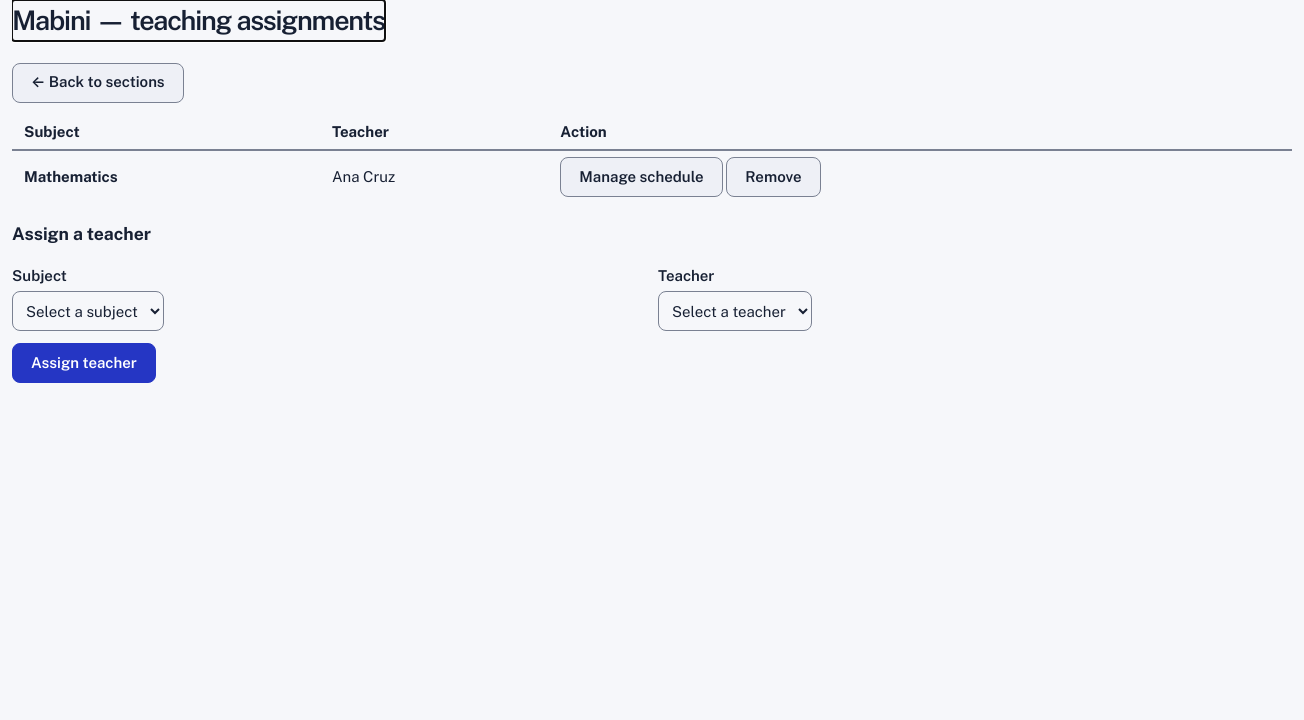
Test case: requires deliberate confirmation and allows cancelling without a write
Check: the column heading "Mathematics" is shown, box [12,150,320,203]
Click the button with aria-label "Remove Ana Cruz from Mathematics": x=773, y=177 [726,157,821,197]
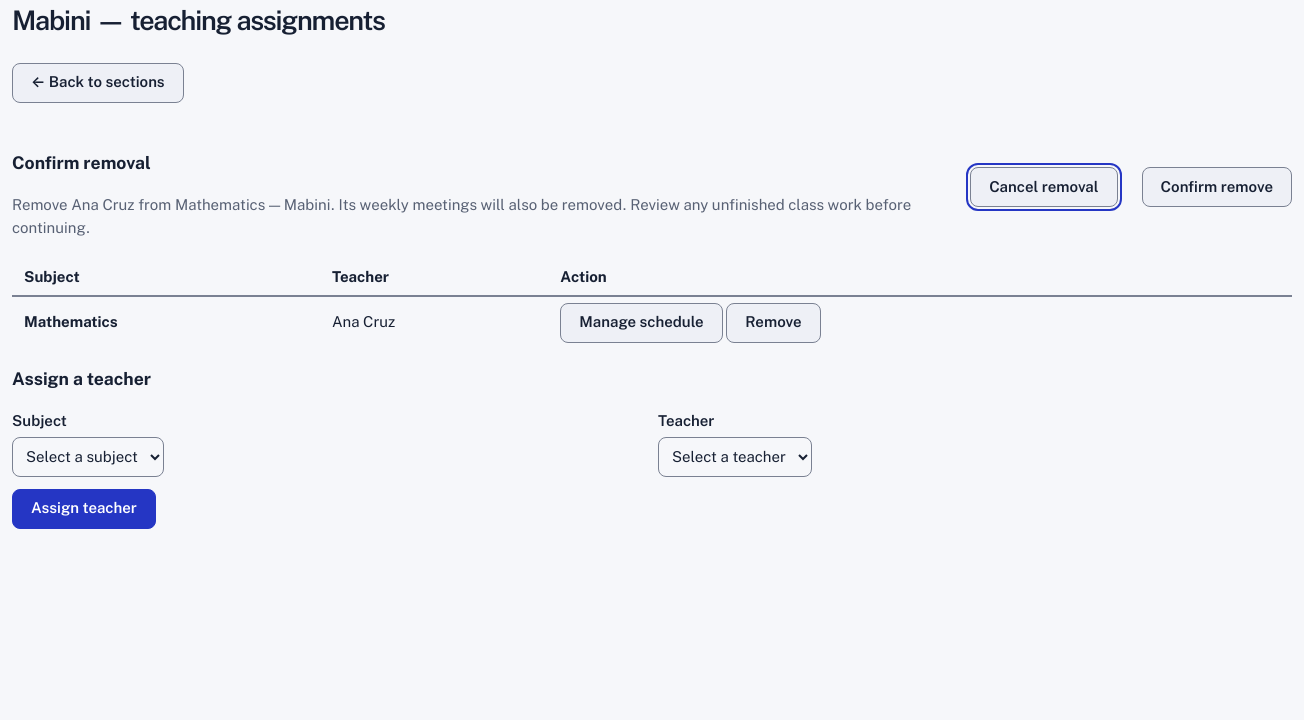
Click the button "Cancel removal": x=1044, y=187 [970,167,1118,207]
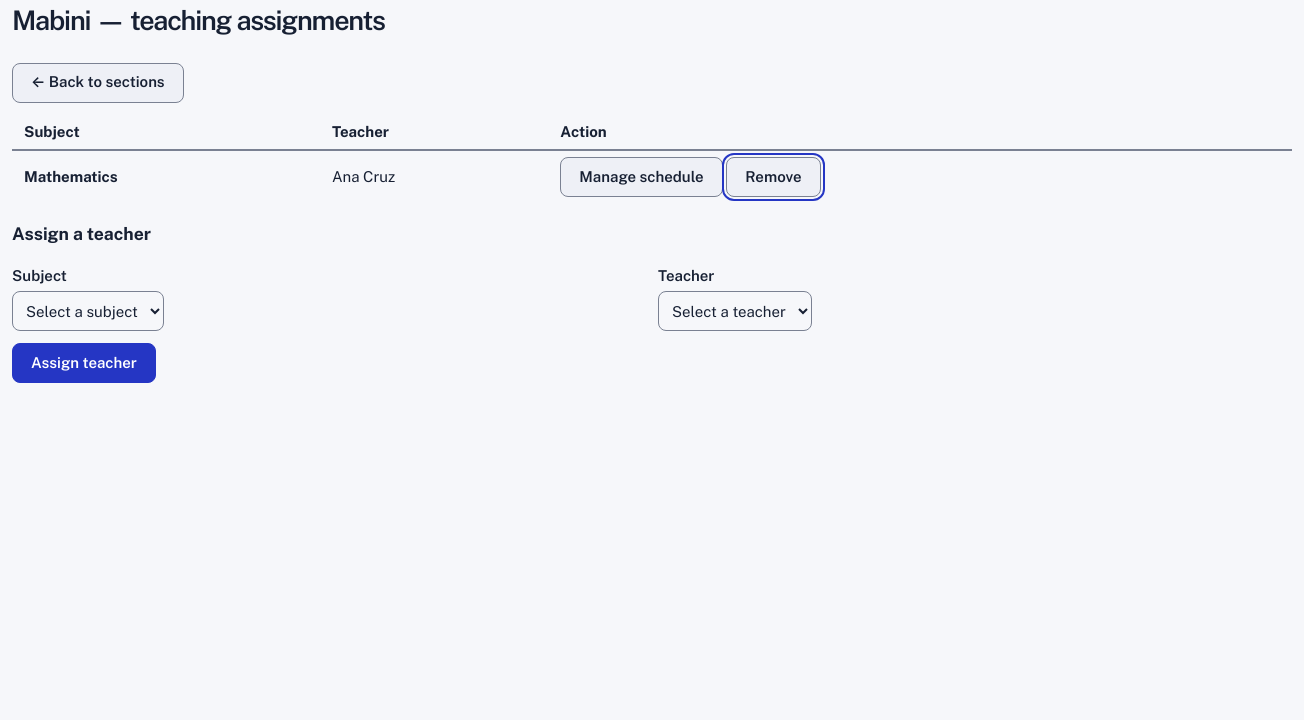
Check: the button "Confirm remove" is gone
